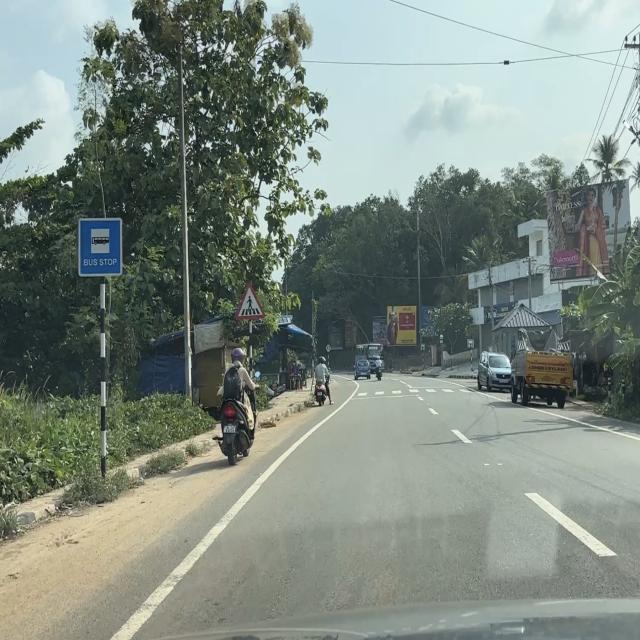INFORMATION: (78, 216, 123, 278)
PEDESTRIAN_CROSSING: (235, 283, 266, 321)
